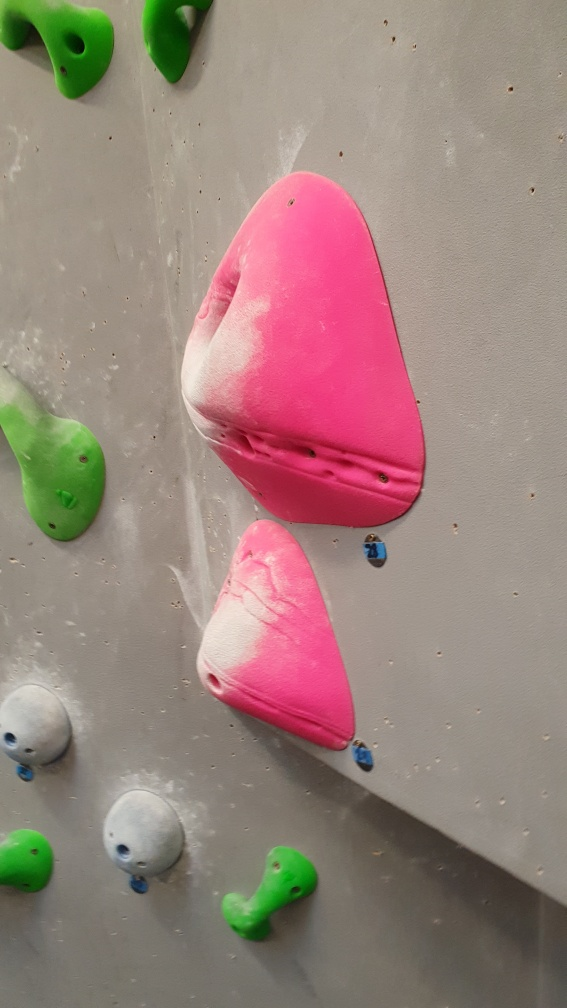Hand Start: (358, 531, 393, 567), (346, 740, 375, 775), (123, 870, 149, 902), (13, 762, 42, 779)
Pocket: (179, 170, 426, 524)
Sloper: (99, 789, 186, 876), (1, 684, 75, 766)
